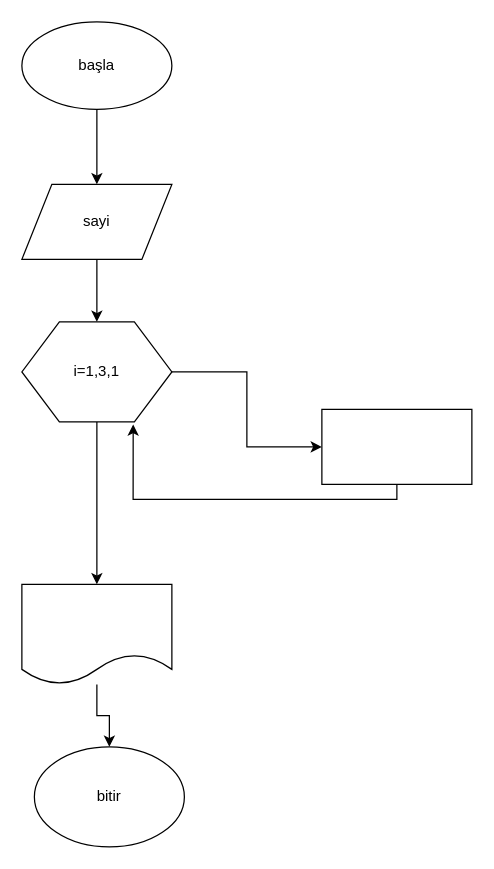
Some shapes in this 494 by 869 pixel diagram are drawn without their labels. Each missing label, with the centre of its shape:
toplam: pixel 96 633
toplam=+sayi: pixel 396 446
